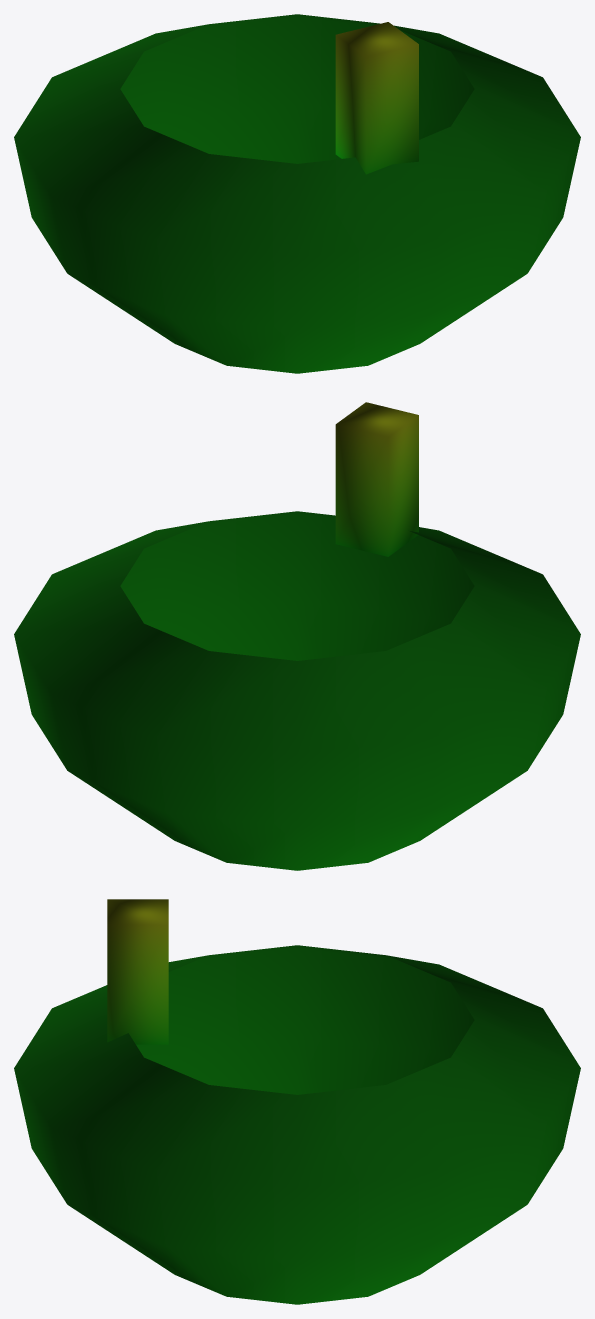
The model's file is ground_lamp.glb.
3 renders of one model, top to bottom at view 1: azimuth 30°, elevation 25°; view 2: azimuth 150°, elevation 25°; view 3: azimuth 270°, elevation 25°, orthographic.
Visible parts, largest first — view 1: ground_lamp; view 2: ground_lamp; view 3: ground_lamp.
Part boxes in pixels (<box>): ground_lamp: <box>14,14,580,373</box>; ground_lamp: <box>14,402,580,870</box>; ground_lamp: <box>14,899,580,1304</box>.
Size of what is drawn, in the model's own units: 0.16 by 0.1036 by 0.16.
